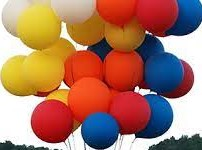Balloon: (18, 6, 62, 49), (110, 91, 151, 134), (31, 100, 72, 142), (69, 77, 110, 119), (24, 50, 66, 91), (103, 50, 144, 91), (144, 52, 184, 93), (136, 1, 179, 33), (82, 113, 119, 148)
